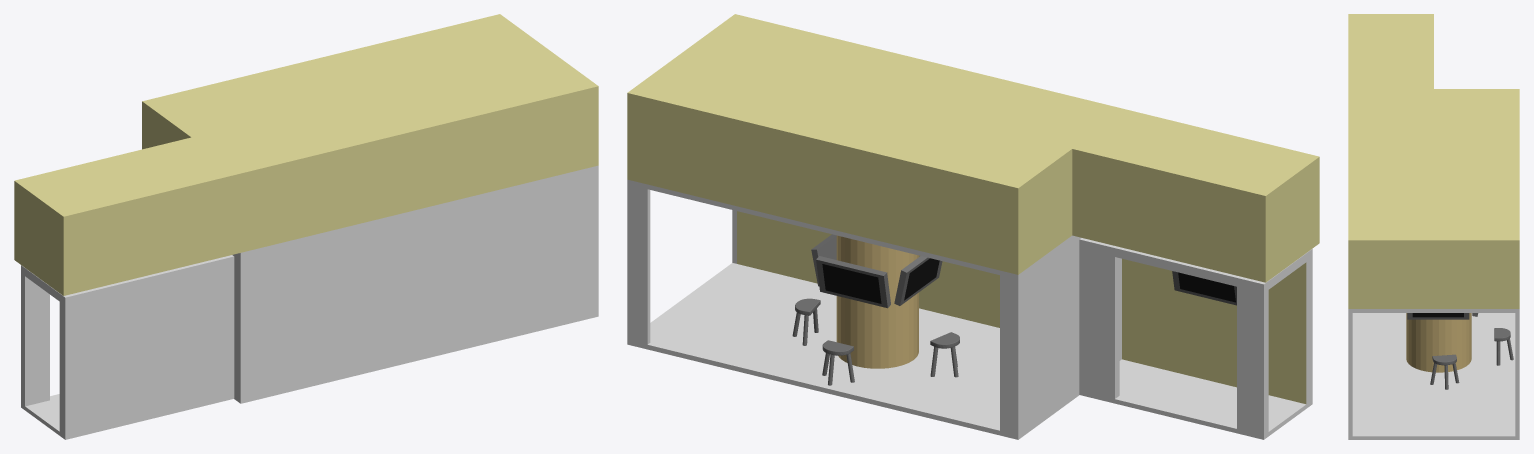
Rendered from Television.dae.
The picture shows the model from 3 angles, left to right: view 1: azimuth 30°, elevation 25°; view 2: azimuth 150°, elevation 25°; view 3: azimuth 270°, elevation 25°; orthographic projection. The views are drawn at different scales.
Visible parts, largest first — view 1: Cube.002, Cube.004; view 2: Cube.002, Cube.004, Cylinder, Cube.006, Cube.008, Cube.009, Banquillo, Banquillo.001, Banquillo.002; view 3: Cube.002, Cube.004, Cylinder, Banquillo.001, Cube.007, Banquillo.
Boxes of the visible parts, <box> form: Cube.002: <box>14,14,598,295</box>; Cube.004: <box>21,165,598,439</box>; Cube.002: <box>627,14,1319,282</box>; Cube.004: <box>627,179,1312,439</box>; Cylinder: <box>836,235,918,368</box>; Cube.006: <box>816,256,890,308</box>; Cube.008: <box>894,256,942,305</box>; Cube.009: <box>1172,271,1236,305</box>; Banquillo: <box>822,340,854,385</box>; Banquillo.001: <box>792,298,820,345</box>; Banquillo.002: <box>930,332,959,377</box>; Cube.002: <box>1348,14,1519,308</box>; Cube.004: <box>1348,309,1519,439</box>; Cylinder: <box>1406,313,1471,372</box>; Banquillo.001: <box>1430,354,1459,389</box>; Cube.007: <box>1407,313,1469,319</box>; Banquillo: <box>1494,328,1513,365</box>.
Size of the model in its own units: 54.36 by 17.36 by 22.36.
